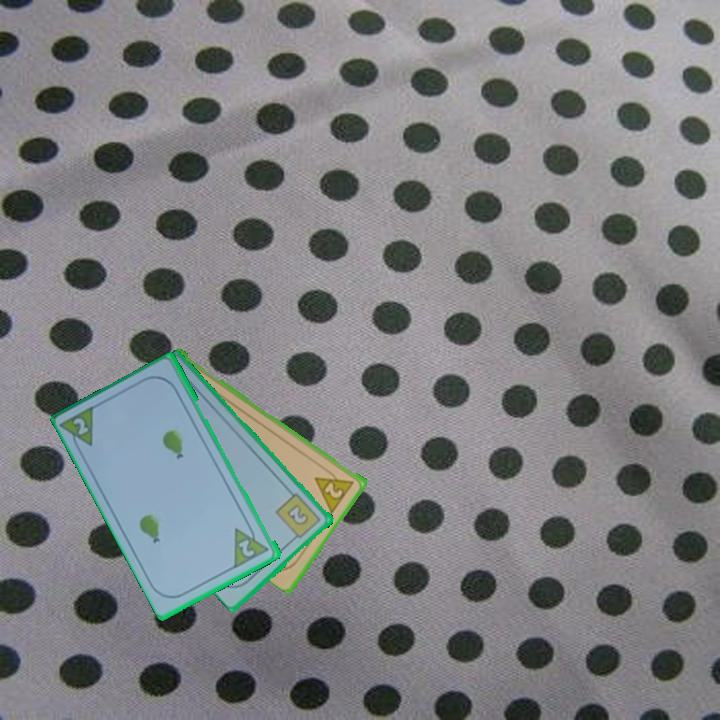2b: (272, 490, 324, 544)
2p: (311, 464, 357, 515), (235, 536, 258, 560), (70, 414, 92, 438)
